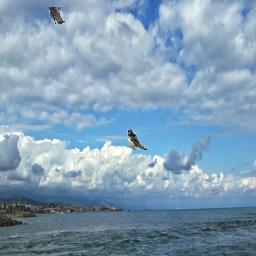Cuckoo: (49, 7, 65, 25)
Swallow: (127, 129, 152, 150)
